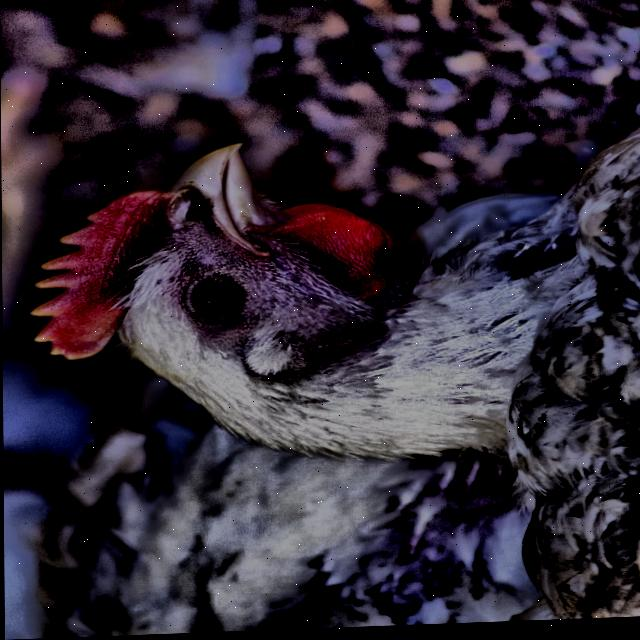Newcastle: (29, 122, 640, 639)
